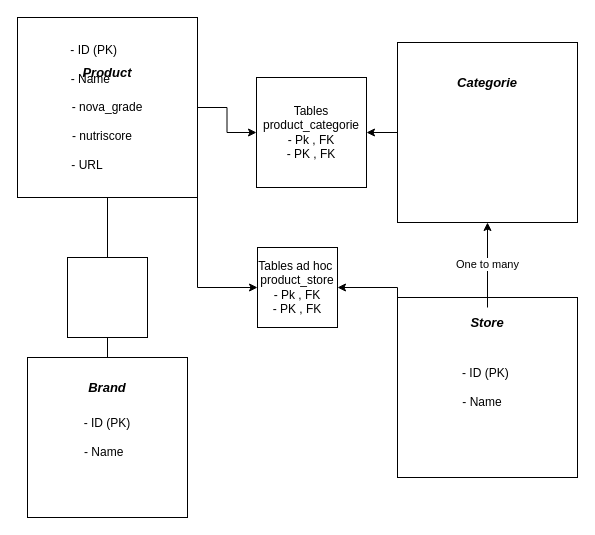
Some shapes in this 595 by 535 pixel diagram are drawn without their labels. Each missing label, with the box of its shape:
- ID (PK) - Name (FK): (396, 42, 578, 222)
Tables product_brand - Pk , FK - PK , FK: (66, 256, 148, 338)
